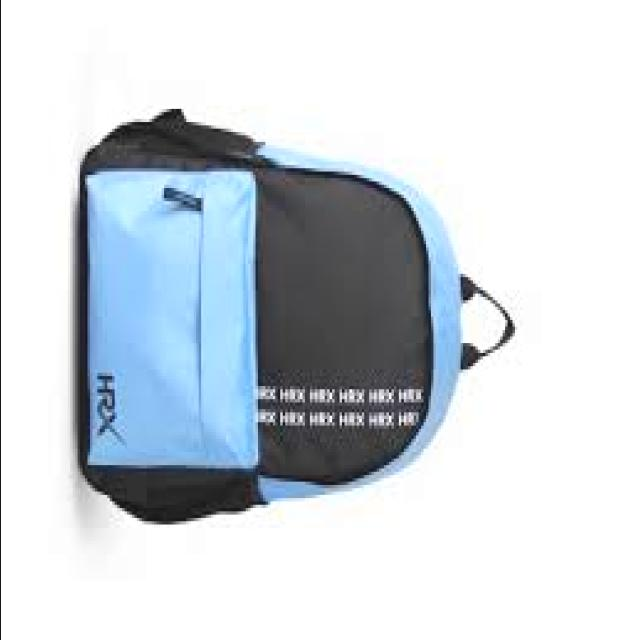backpack: (80, 107, 518, 526)
